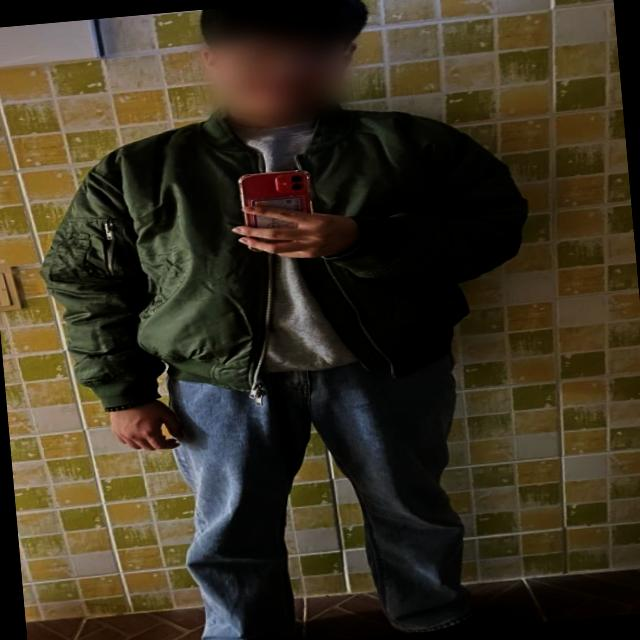denimpants: (158, 345, 478, 640)
jacket: (42, 89, 547, 412)
